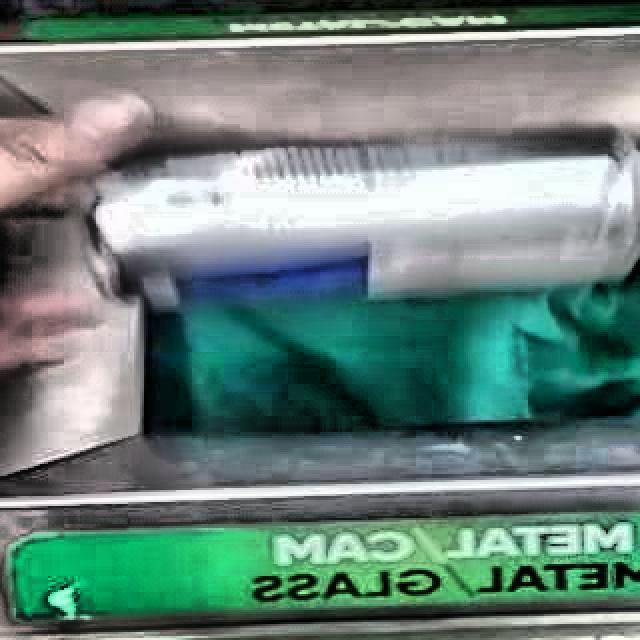metal: (95, 140, 640, 300)
